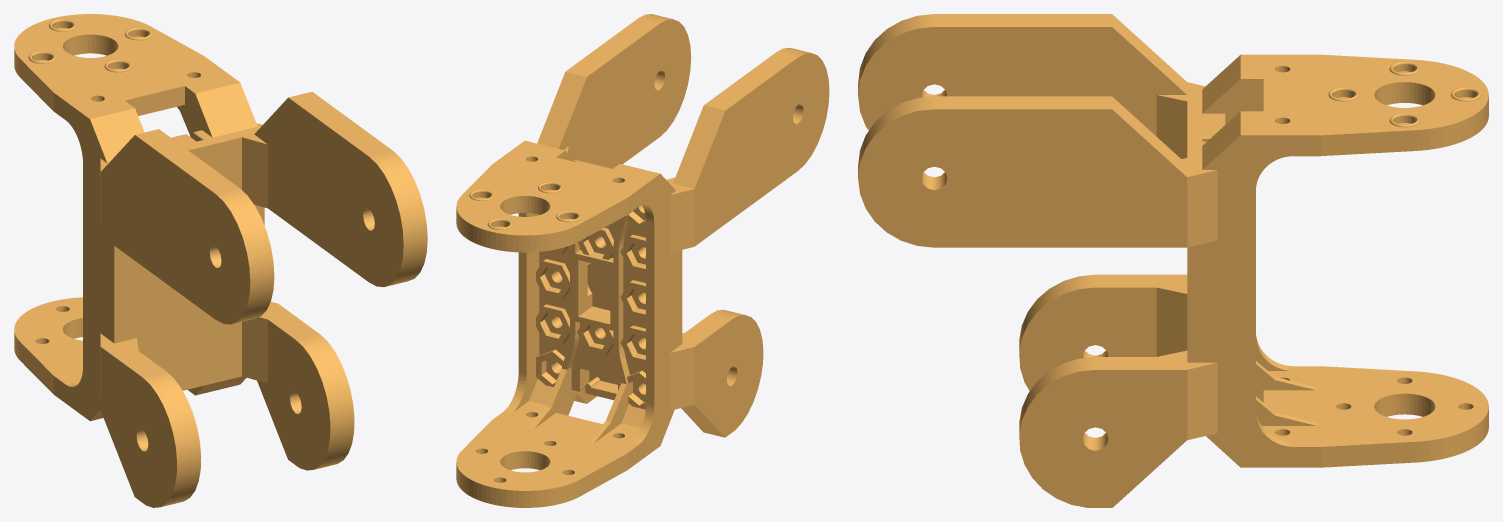
The model's file is manipulator2uav.dae.
3 renders of one model, left to right at view 1: azimuth 30°, elevation 25°; view 2: azimuth 150°, elevation 25°; view 3: azimuth 270°, elevation 25°, orthographic. The views are drawn at different scales.
Visible parts, largest first — view 1: mesh_1_nosac_za_ruke_nogice; view 2: mesh_1_nosac_za_ruke_nogice; view 3: mesh_1_nosac_za_ruke_nogice.
Part boxes in pixels (x1,y1,x2,y2): mesh_1_nosac_za_ruke_nogice: (14, 14, 427, 507); mesh_1_nosac_za_ruke_nogice: (456, 14, 829, 507); mesh_1_nosac_za_ruke_nogice: (858, 14, 1488, 507).
Bounding box in the file's own units: 0.0295 × 0.0826 × 0.0576.
